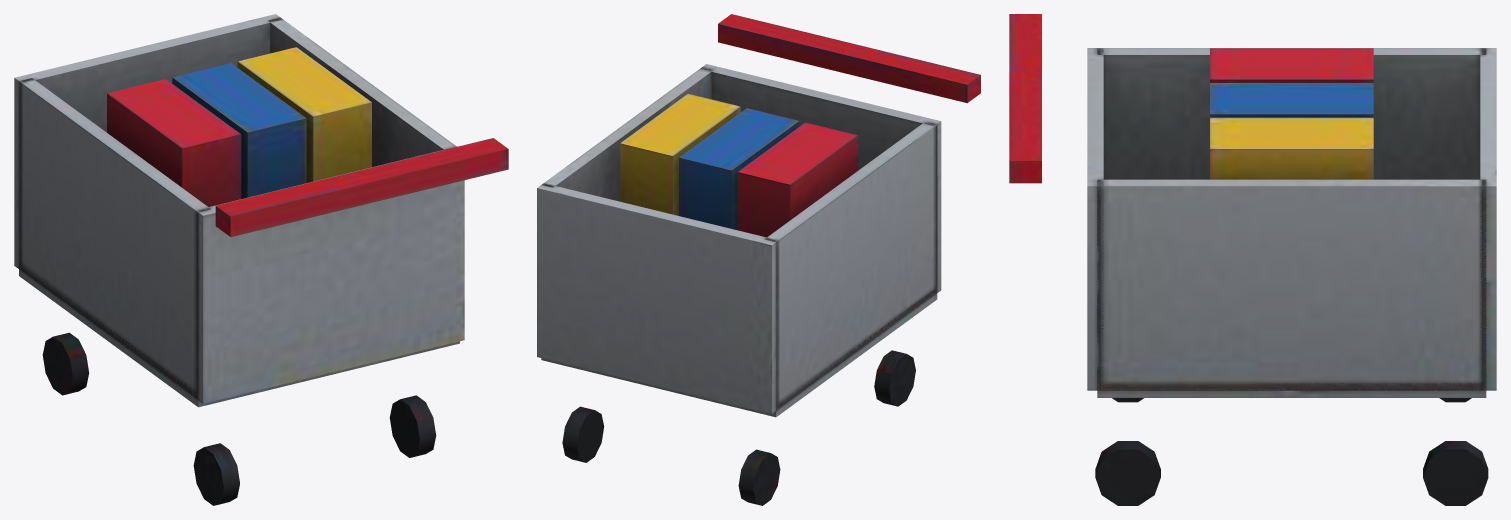
Rendered from carrito_compra.glb.
The picture shows the model from 3 angles, left to right: view 1: azimuth 30°, elevation 25°; view 2: azimuth 150°, elevation 25°; view 3: azimuth 270°, elevation 25°; orthographic projection. The views are drawn at different scales.
Visible parts, largest first — view 1: carrito_compra; view 2: carrito_compra; view 3: carrito_compra.
Boxes of the visible parts, box(x1,y1,x2,y2) form: carrito_compra: box(14, 14, 508, 505); carrito_compra: box(537, 14, 980, 505); carrito_compra: box(1009, 14, 1496, 505).
Size of the model in its own units: 0.85 by 0.9761 by 1.19.
1 material, 1 textured.
